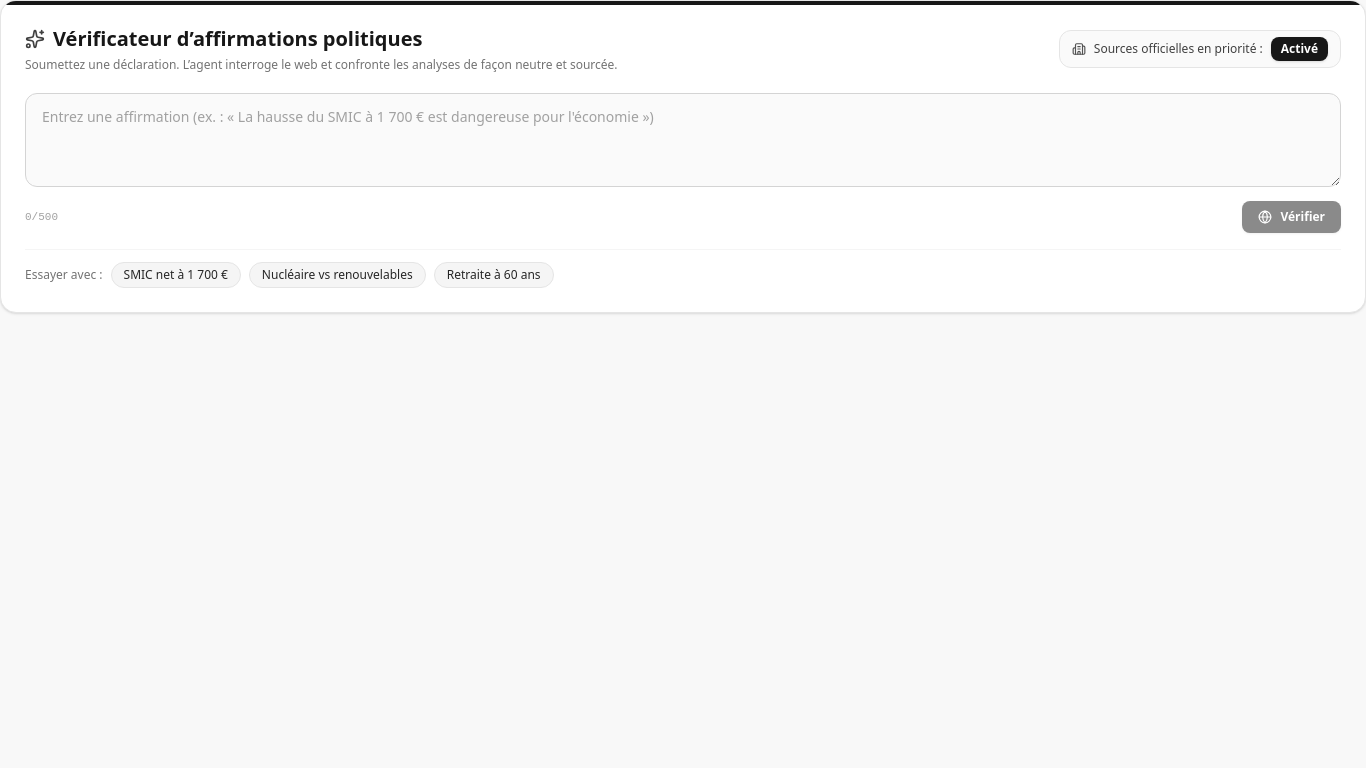
Test: CheckPage › pendant la recherche : bouton bloqué, message de chargement, puis message de réveil du serveur
Replace the text in the text box labelled "affirmation" with "Une affirmation suffisamment longue.". click: (683, 140)
box: [25,93,1341,187]
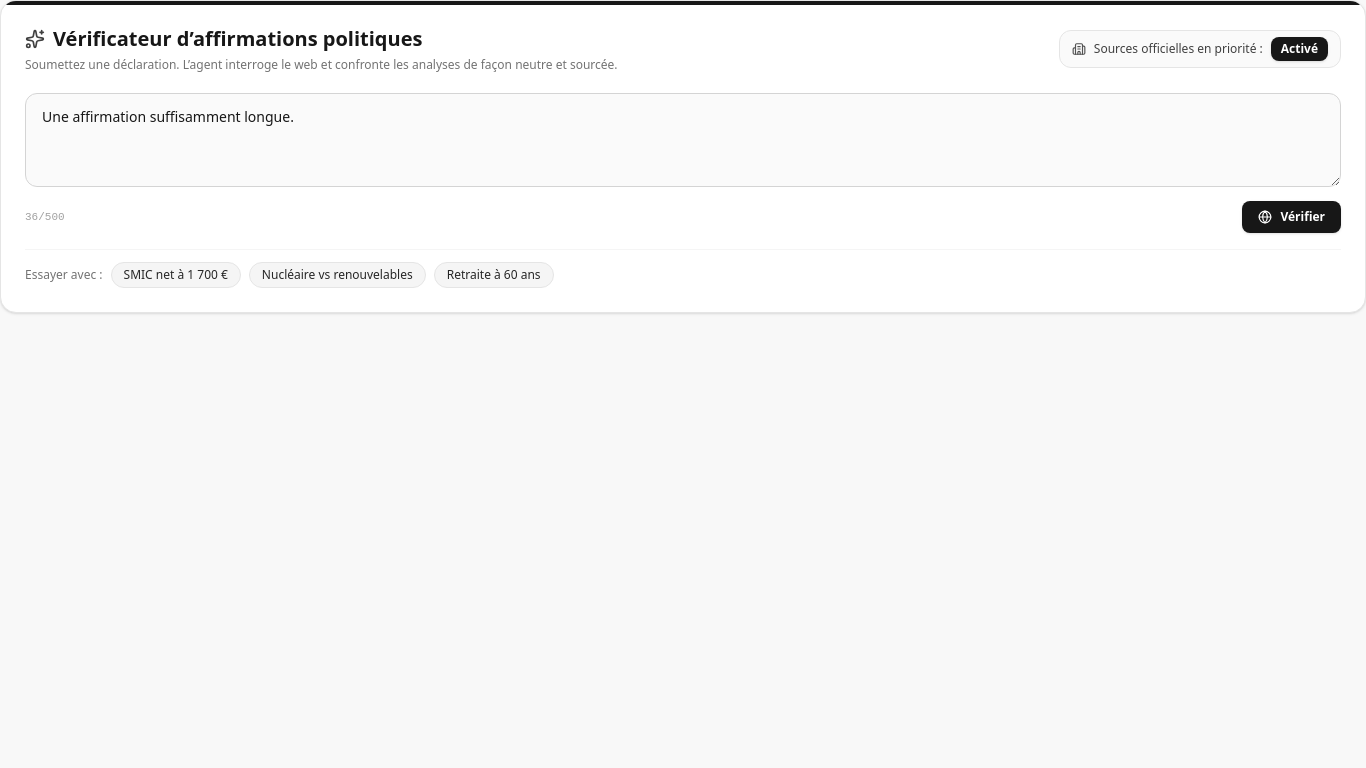
Click the button "Vérifier". click: click(1292, 217)
box: [1242,201,1341,233]
Wait 8000 ms
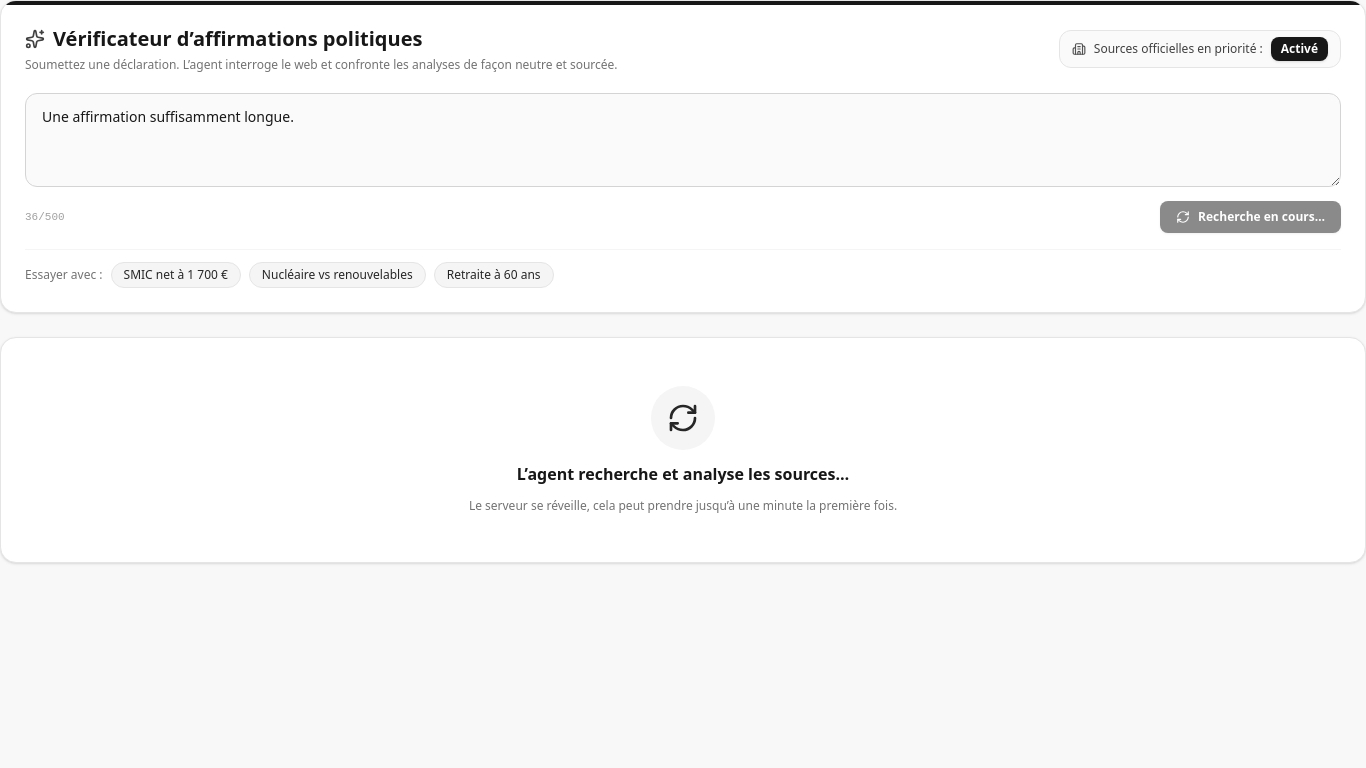
Expected: the button "Recherche en cours…" is disabled, [1160,201,1341,233]
Expected: the heading "L’agent recherche et analyse les sources…" is shown, [517,463,849,485]
Expected: the text "Le serveur se réveille" is shown, [469,497,897,514]
